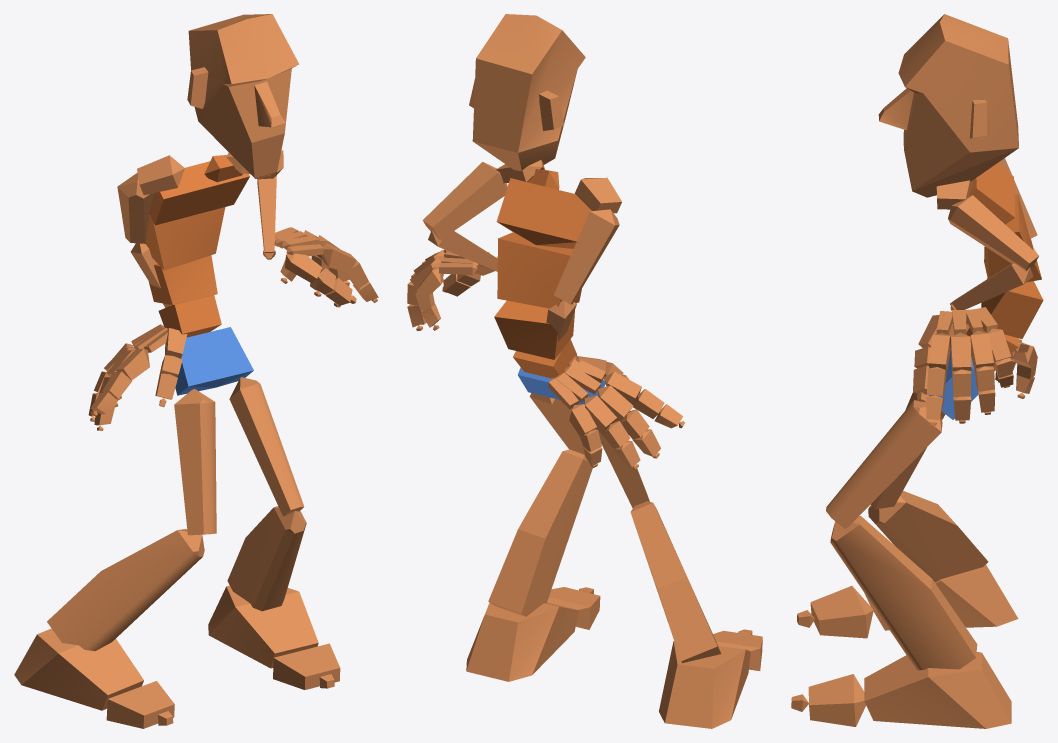
File: personaje310.obj
3 views of the same model, side by side, from view 1: azimuth 30°, elevation 25°; view 2: azimuth 150°, elevation 25°; view 3: azimuth 270°, elevation 25° (orthographic). The views are drawn at different scales.
Parts seen in each view (by area): view 1: BOPED_Head, BOPED_R_leg, BOPED_R_foot, BOPED_R_foot01, BOPED_L_leg, BOPED_R_legup, BOPED_L_legup, Bone01, Bone05, Bone04, Bone03, BOPED_R_foot_toe01 (+10 smaller); view 2: BOPED_Head, BOPED_L_leg, BOPED_R_foot01, BOPED_R_foot, BOPED_R_leg, Bone05, Bone04, BOPED_L_arm_upper, Bone03, BOPED_R_arm_upper, BOPED_L_legup, BOPED_R_foot_toe04 (+12 smaller); view 3: BOPED_Head, BOPED_L_leg, BOPED_R_foot01, BOPED_R_leg, BOPED_L_legup, BOPED_R_foot, BOPED_L_arm_upper, BOPED_R_foot_toe01, BOPED_R_foot_toe04, Bone03, Bone05, BOPED_L_arm_fore (+12 smaller).
Boxes of the visible parts, <box> form: BOPED_Head: <box>187,14,298,179</box>; BOPED_R_leg: <box>47,529,204,651</box>; BOPED_R_foot: <box>14,628,143,710</box>; BOPED_R_foot01: <box>208,585,318,668</box>; BOPED_L_leg: <box>227,506,306,611</box>; BOPED_R_legup: <box>174,389,216,535</box>; BOPED_L_legup: <box>229,377,304,516</box>; Bone01: <box>175,327,253,395</box>; Bone05: <box>149,161,249,225</box>; Bone04: <box>145,207,225,270</box>; Bone03: <box>148,255,217,304</box>; BOPED_R_foot_toe01: <box>106,681,174,728</box>; BOPED_Head: <box>469,14,585,171</box>; BOPED_L_leg: <box>488,449,592,616</box>; BOPED_R_foot01: <box>466,602,578,681</box>; BOPED_R_foot: <box>659,641,750,728</box>; BOPED_R_leg: <box>630,501,721,662</box>; Bone05: <box>496,178,591,248</box>; Bone04: <box>497,232,581,308</box>; BOPED_L_arm_upper: <box>422,162,507,240</box>; Bone03: <box>494,300,574,359</box>; BOPED_R_arm_upper: <box>554,209,619,304</box>; BOPED_L_legup: <box>529,393,585,455</box>; BOPED_R_foot_toe04: <box>547,587,600,629</box>; BOPED_Head: <box>878,14,1018,197</box>; BOPED_L_leg: <box>830,516,977,670</box>; BOPED_R_foot01: <box>864,652,1011,728</box>; BOPED_R_leg: <box>868,490,988,581</box>; BOPED_L_legup: <box>826,400,942,528</box>; BOPED_R_foot: <box>864,564,1018,630</box>; BOPED_L_arm_upper: <box>948,195,1038,271</box>; BOPED_R_foot_toe01: <box>810,586,873,638</box>; BOPED_R_foot_toe04: <box>808,674,865,726</box>; Bone03: <box>981,278,1043,338</box>; Bone05: <box>970,163,1015,224</box>; BOPED_L_arm_fore: <box>950,263,1033,309</box>.
Size of the model in its own units: 94.19 by 169 by 56.5.
